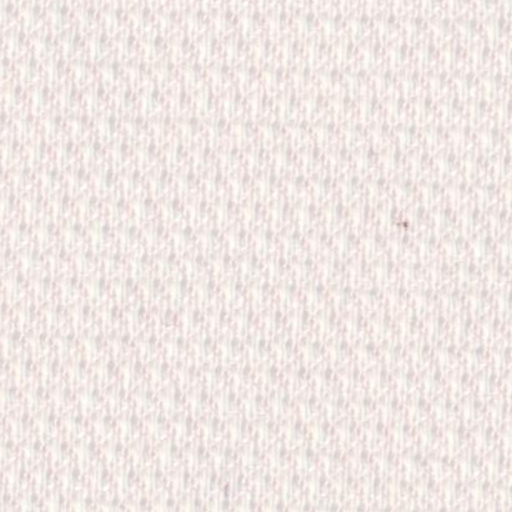WuZi: (380, 211, 416, 240)
